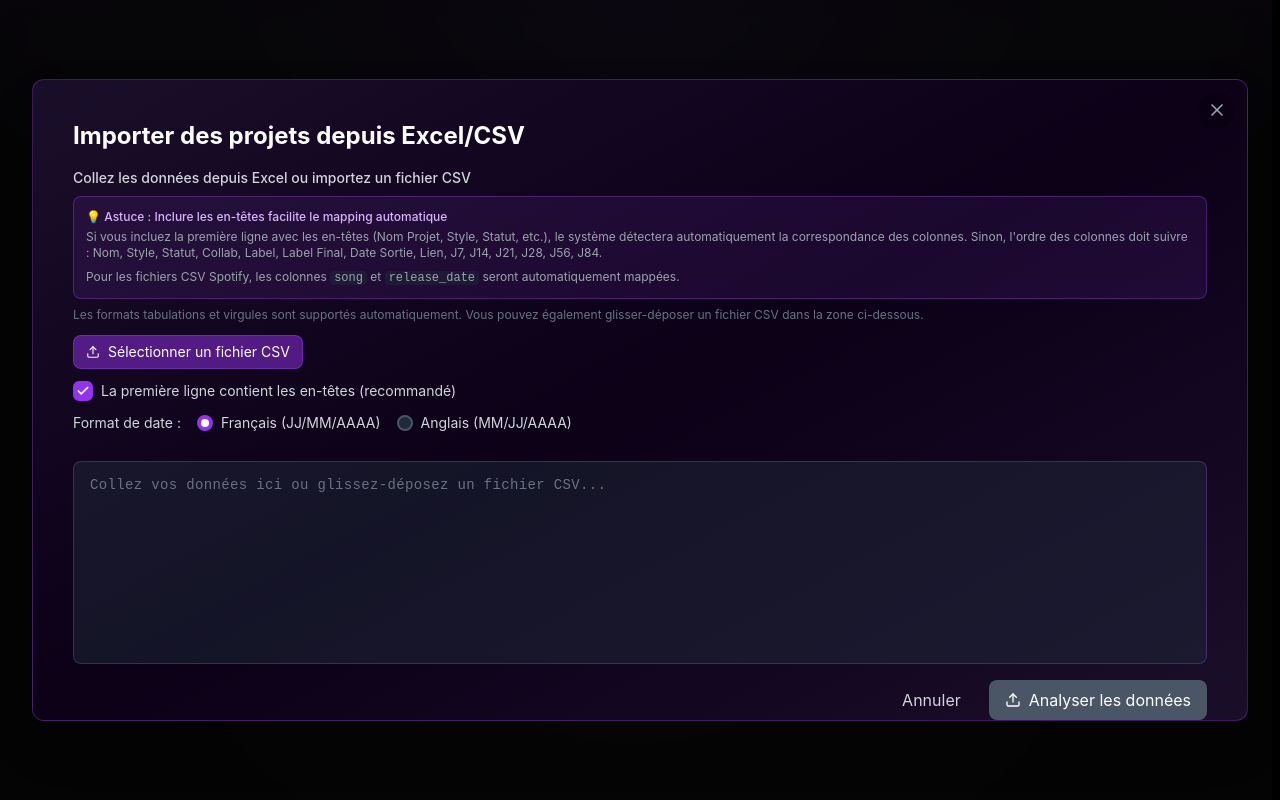
ImportProjectsDialog › should handle errors during import
Go to preview
Step 1. Type "data" into the text box → (640, 562), box [73, 461, 1207, 664]
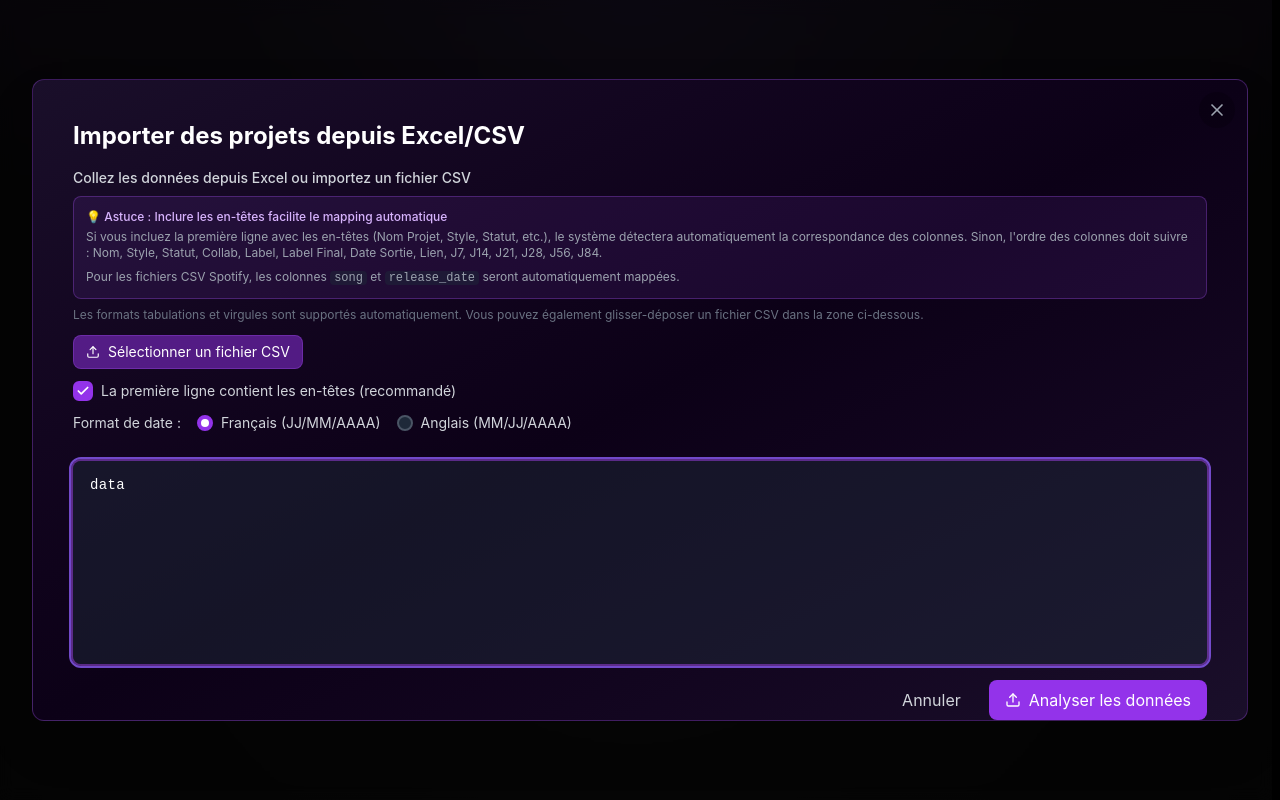
Step 2. Click the button "Analyser les données" → (1098, 700), box [989, 680, 1207, 720]
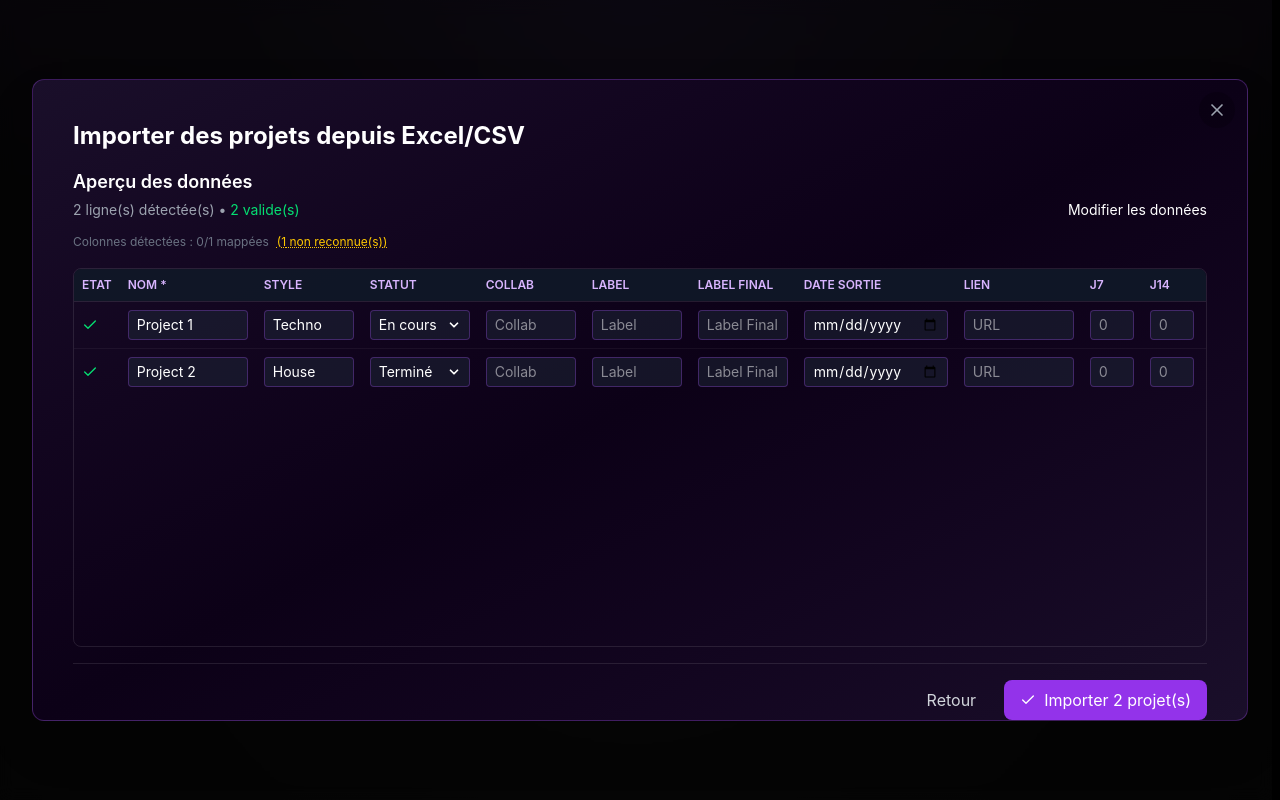
Expected: the button "Importer 2 projet(s)" is shown
Click Import
Step 3. Click the button "Importer 2 projet(s)" → (1106, 700), box [1004, 680, 1207, 720]
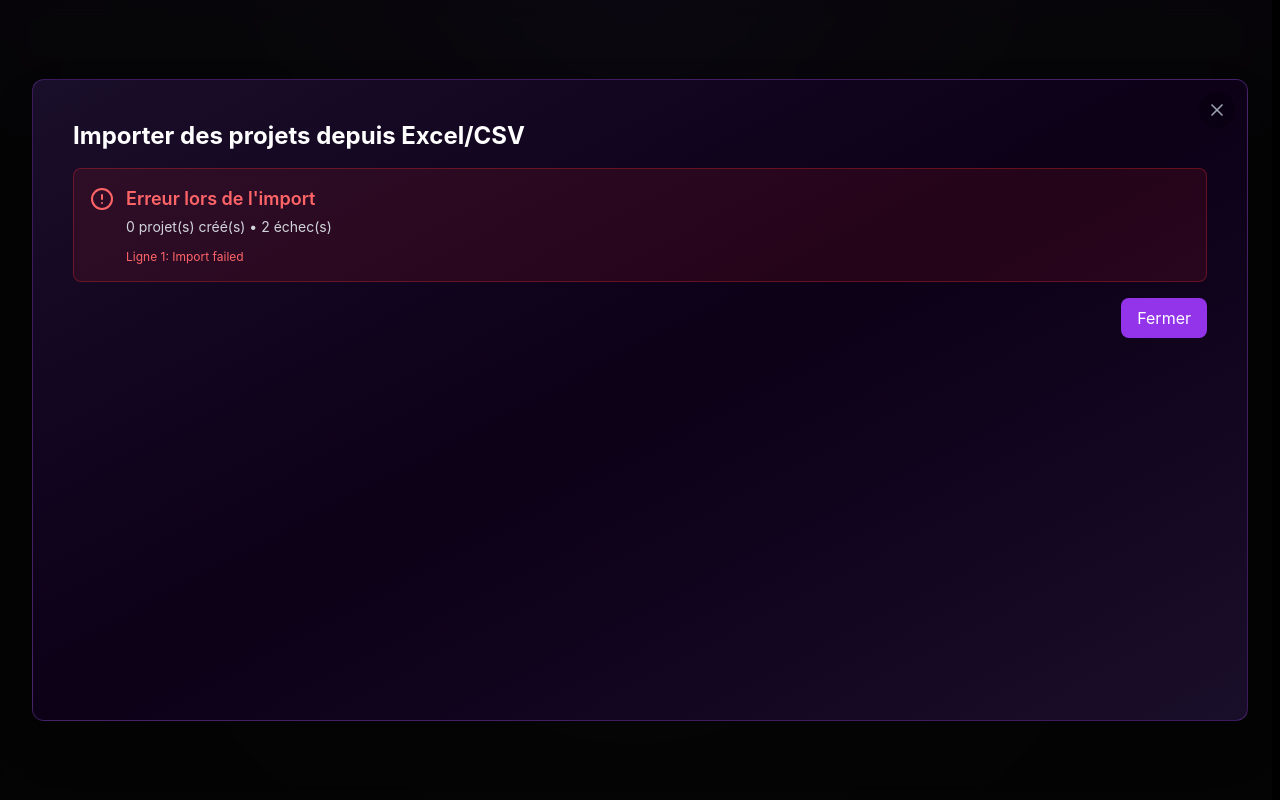
Expected: the heading "Erreur lors de l'import" is shown, [126, 188, 316, 209]
